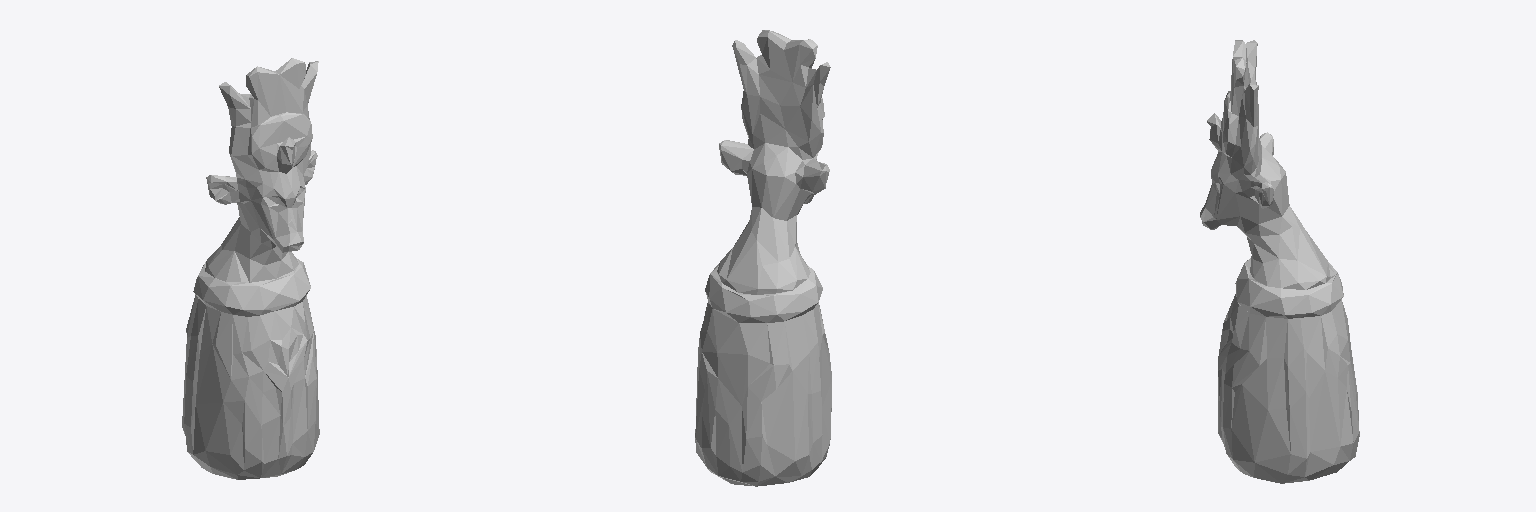
File: isis.obj
3 renders of one model, left to right at view 1: azimuth 30°, elevation 25°; view 2: azimuth 150°, elevation 25°; view 3: azimuth 270°, elevation 25°, orthographic.
Visible parts, largest first — view 1: LP_Cube.014; view 2: LP_Cube.014; view 3: LP_Cube.014.
Part boxes in pixels (bbox=[...]): LP_Cube.014: bbox=[182, 58, 319, 479]; LP_Cube.014: bbox=[695, 30, 831, 486]; LP_Cube.014: bbox=[1200, 40, 1359, 483].
Size of the model in its own units: 0.4575 by 1.52 by 0.528.